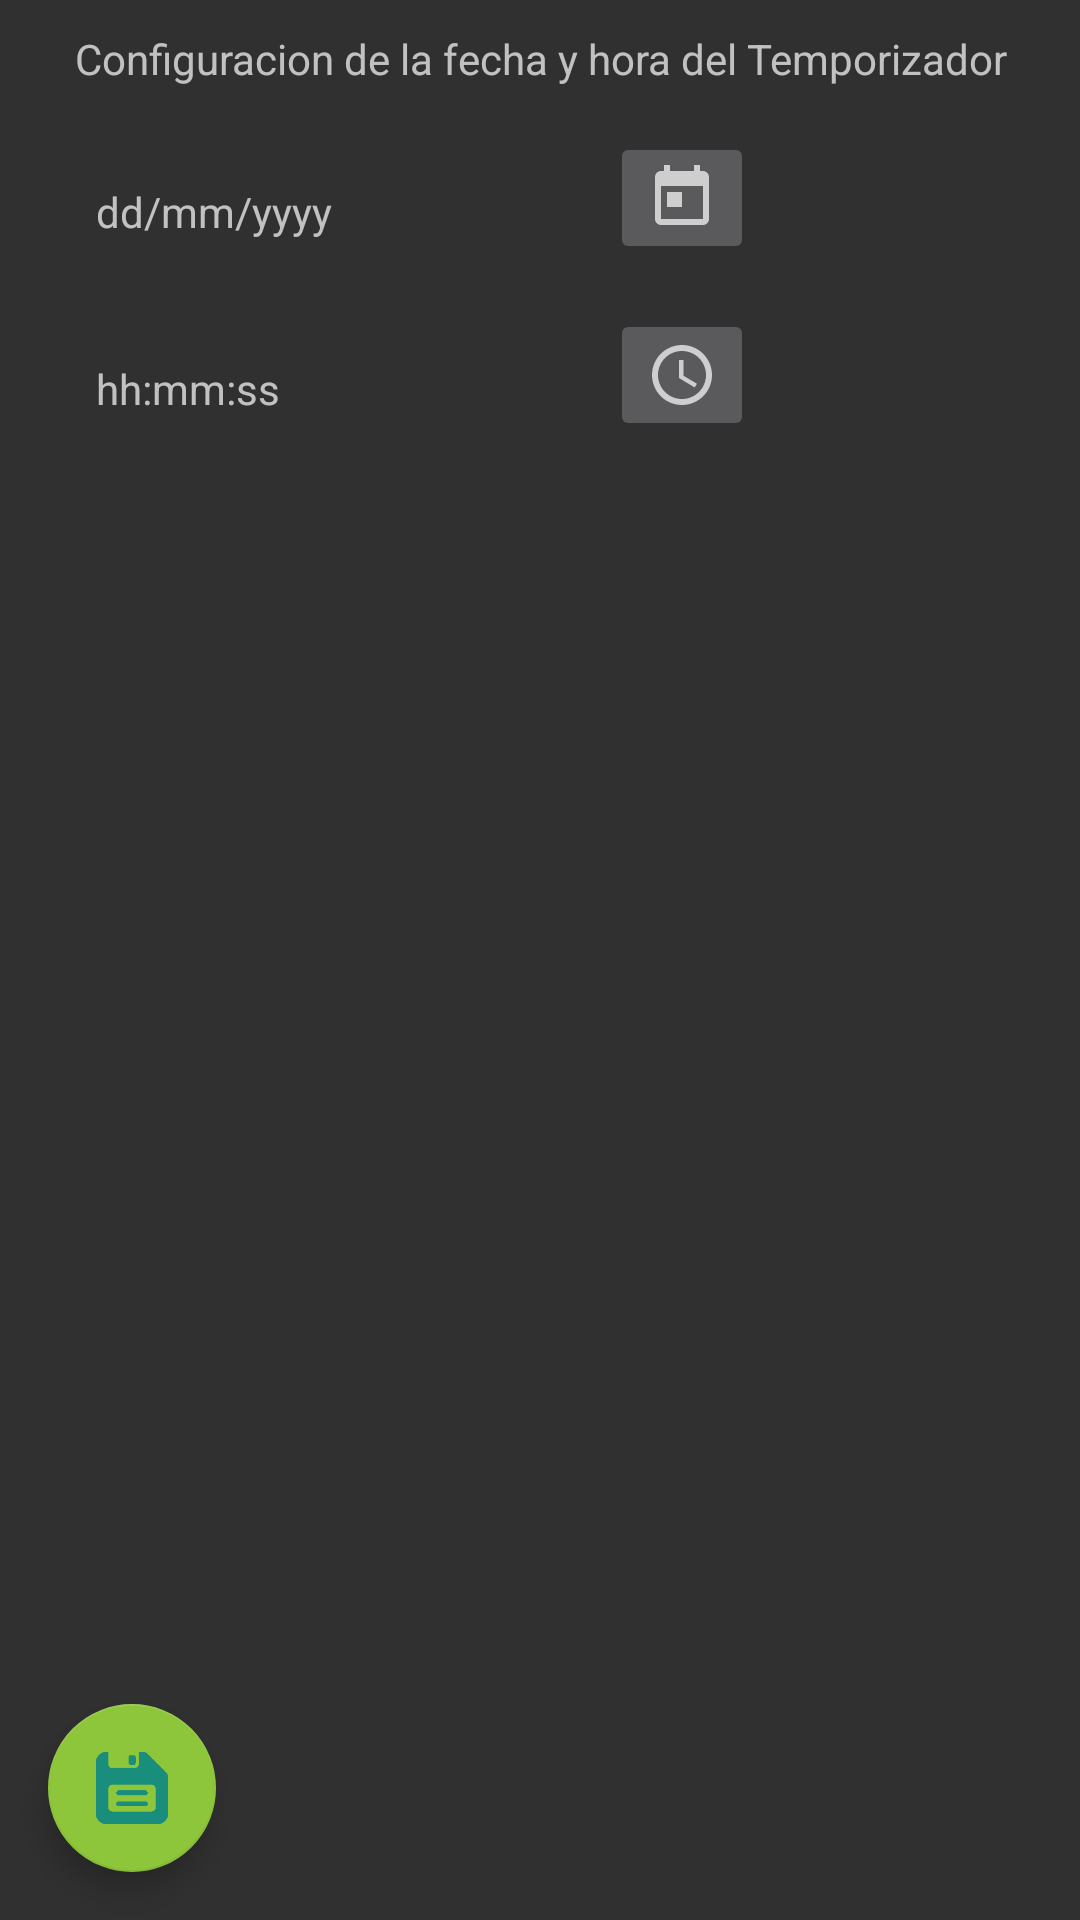

Icons on this 1080×1920 Android screen, each with the point to tap as (x=x, y=y):
save: (x=132, y=1788)
schedule: (x=682, y=375)
today: (x=682, y=198)
